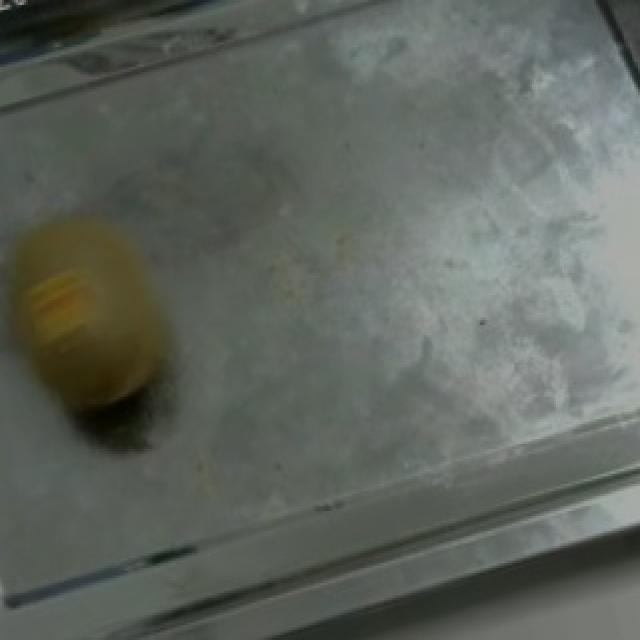Fruit: (0, 174, 212, 449)
